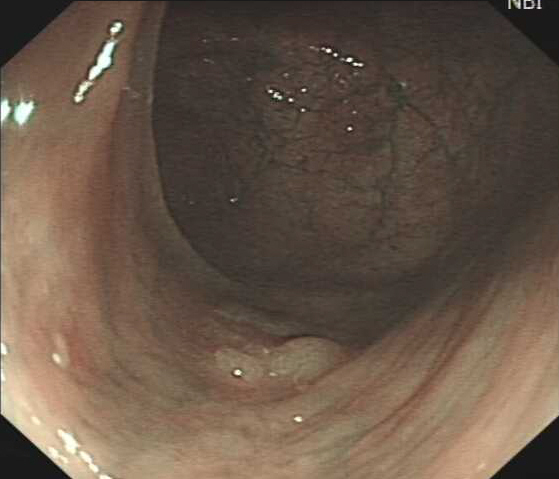others: (210, 334, 346, 390)
